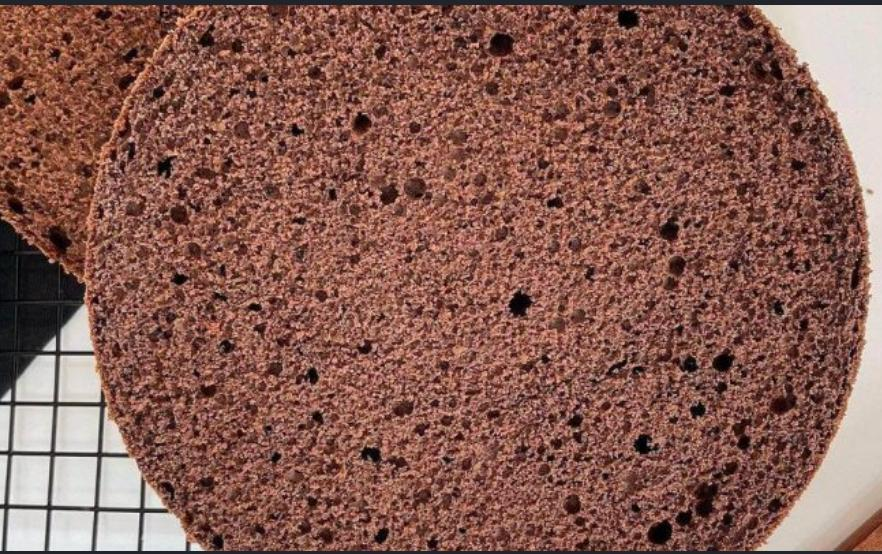Chocolate Cake: (91, 11, 878, 554)
